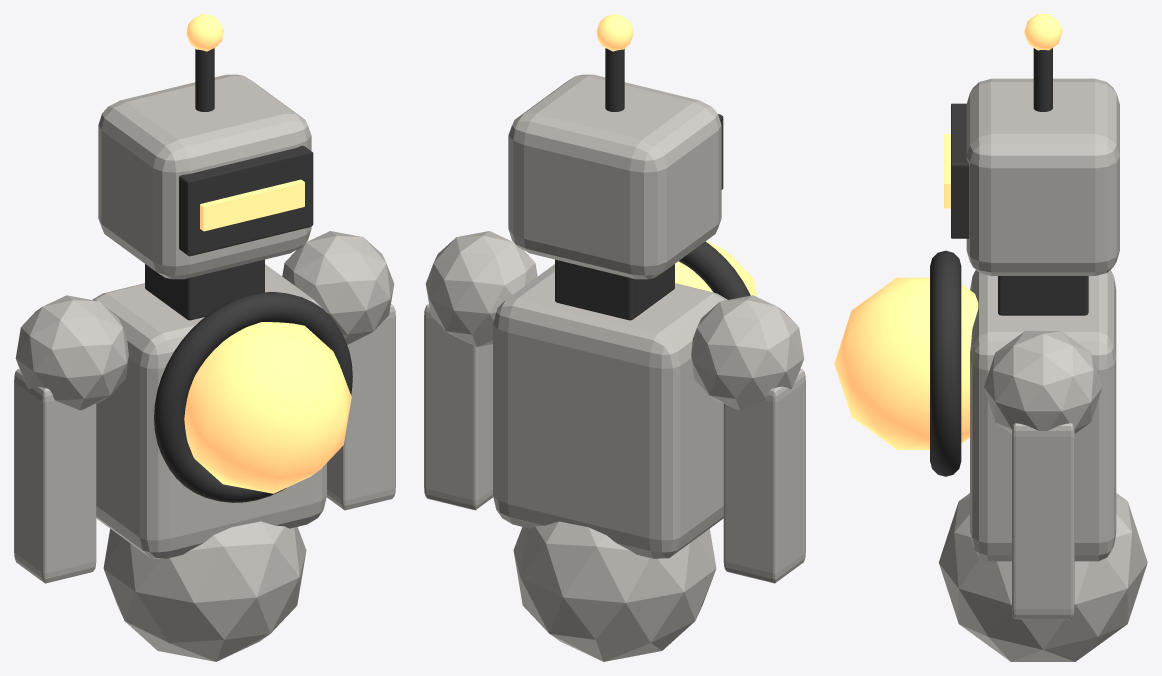
File: robot.glb
3 views of the same model, side by side, from view 1: azimuth 30°, elevation 25°; view 2: azimuth 150°, elevation 25°; view 3: azimuth 270°, elevation 25° (orthographic).
Parts seen in each view (by area): view 1: Robot_Head, Robot_Torso, Robot_Core, Robot_Base, Robot_ArmR, Robot_CoreRing, Robot_ShoulderR, Robot_ArmL, Robot_VisorPanel, Robot_ShoulderL, Robot_Neck, Robot_Visor (+2 smaller); view 2: Robot_Torso, Robot_Head, Robot_Base, Robot_ArmR, Robot_ArmL, Robot_ShoulderR, Robot_ShoulderL, Robot_Neck, Robot_CoreRing, Robot_Antenna, Robot_Core, Robot_AntennaTip; view 3: Robot_Head, Robot_Torso, Robot_Base, Robot_Core, Robot_ArmL, Robot_ShoulderL, Robot_CoreRing, Robot_Neck, Robot_VisorPanel, Robot_Antenna, Robot_AntennaTip, Robot_Visor.
Boxes of the visible parts, <box> form: Robot_Head: <box>98,74,311,279</box>; Robot_Torso: <box>92,264,326,559</box>; Robot_Core: <box>184,322,351,493</box>; Robot_Base: <box>103,521,306,661</box>; Robot_ArmR: <box>14,369,96,583</box>; Robot_CoreRing: <box>154,292,352,502</box>; Robot_ShoulderR: <box>15,295,128,410</box>; Robot_ArmL: <box>326,304,395,510</box>; Robot_VisorPanel: <box>179,145,313,256</box>; Robot_ShoulderL: <box>282,231,394,344</box>; Robot_Neck: <box>145,259,264,320</box>; Robot_Visor: <box>200,179,304,231</box>; Robot_Torso: <box>493,264,727,559</box>; Robot_Head: <box>508,74,721,279</box>; Robot_Base: <box>513,521,716,661</box>; Robot_ArmR: <box>723,369,805,583</box>; Robot_ArmL: <box>424,304,493,510</box>; Robot_ShoulderR: <box>691,295,804,410</box>; Robot_ShoulderL: <box>425,231,537,346</box>; Robot_Neck: <box>555,259,674,320</box>; Robot_CoreRing: <box>679,241,750,299</box>; Robot_Antenna: <box>605,48,624,111</box>; Robot_Core: <box>675,241,756,296</box>; Robot_AntennaTip: <box>596,14,633,51</box>; Robot_Head: <box>966,78,1119,275</box>; Robot_Torso: <box>970,270,1116,561</box>; Robot_Base: <box>938,493,1147,661</box>; Robot_Core: <box>834,277,978,449</box>; Robot_ArmL: <box>1012,423,1074,619</box>; Robot_ShoulderL: <box>984,331,1102,433</box>; Robot_CoreRing: <box>930,250,961,476</box>; Robot_Neck: <box>998,276,1088,315</box>; Robot_VisorPanel: <box>951,103,969,238</box>; Robot_Antenna: <box>1033,48,1052,111</box>; Robot_AntennaTip: <box>1024,14,1062,50</box>; Robot_Visor: <box>944,134,950,208</box>.
Bounding box in the file's own units: 1.2 × 2.03 × 0.9.
